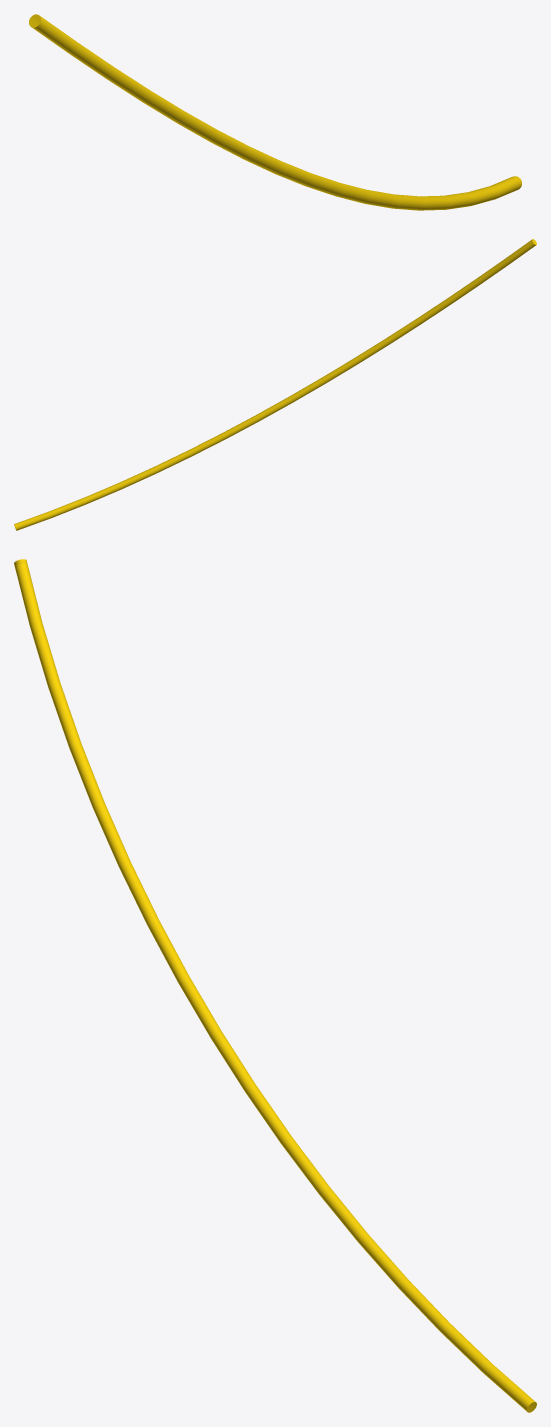
The model's file is Event_421115418_track_18.fbx.
3 renders of one model, top to bottom at view 1: azimuth 30°, elevation 25°; view 2: azimuth 150°, elevation 25°; view 3: azimuth 270°, elevation 25°, orthographic. The views are drawn at different scales.
Visible parts, largest first — view 1: Model; view 2: Model; view 3: Model.
Boxes of the visible parts, bbox=[...] form: Model: bbox=[29, 14, 521, 210]; Model: bbox=[14, 239, 536, 530]; Model: bbox=[14, 559, 536, 1412].
Bounding box in the file's own units: 2.48 × 1.74 × 1.6.
